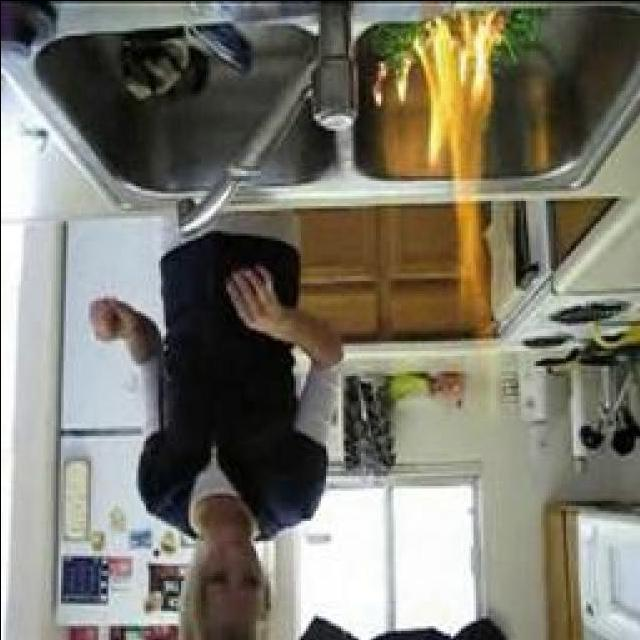Fire: (414, 20, 498, 341), (364, 44, 416, 107)
